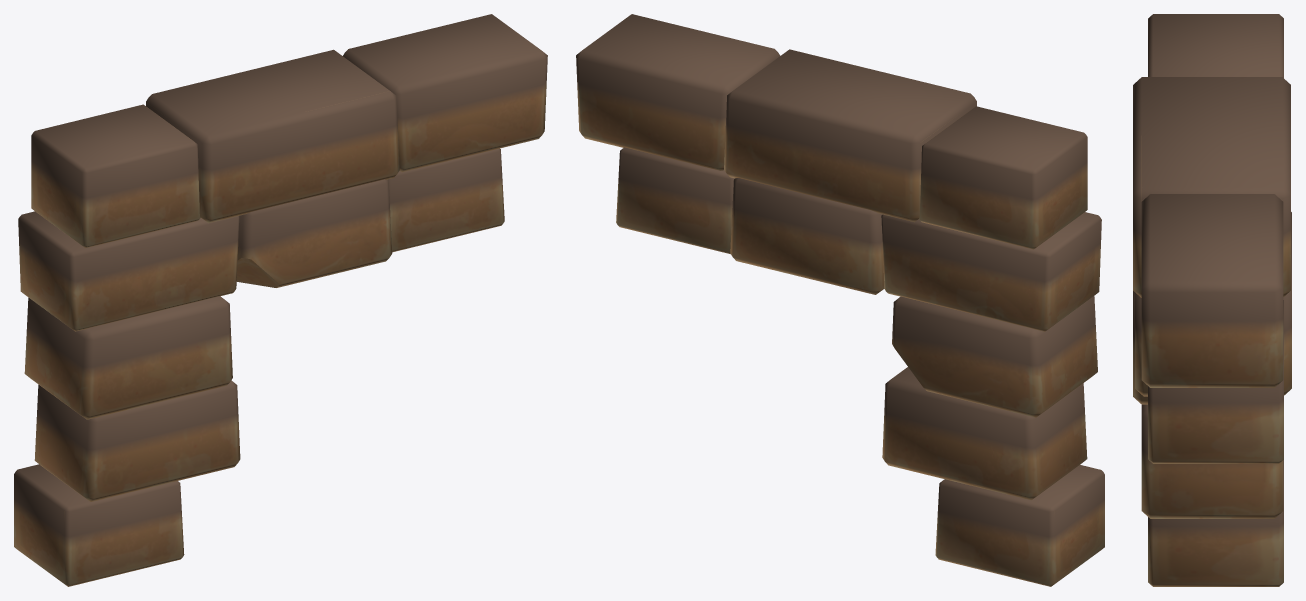
Rendered from SM_brick_01.glb.
The picture shows the model from 3 angles, left to right: view 1: azimuth 30°, elevation 25°; view 2: azimuth 150°, elevation 25°; view 3: azimuth 270°, elevation 25°; orthographic projection. The views are drawn at different scales.
Parts seen in each view (by area): view 1: SM_brick_01; view 2: SM_brick_01; view 3: SM_brick_01.
Boxes of the visible parts, left/top/right/bottom form: SM_brick_01: left=14, top=14, right=547, bottom=586; SM_brick_01: left=576, top=14, right=1104, bottom=586; SM_brick_01: left=1133, top=14, right=1291, bottom=586.
Size of the model in its own units: 1.47 by 1.23 by 0.3369.
1 material, 1 textured.
